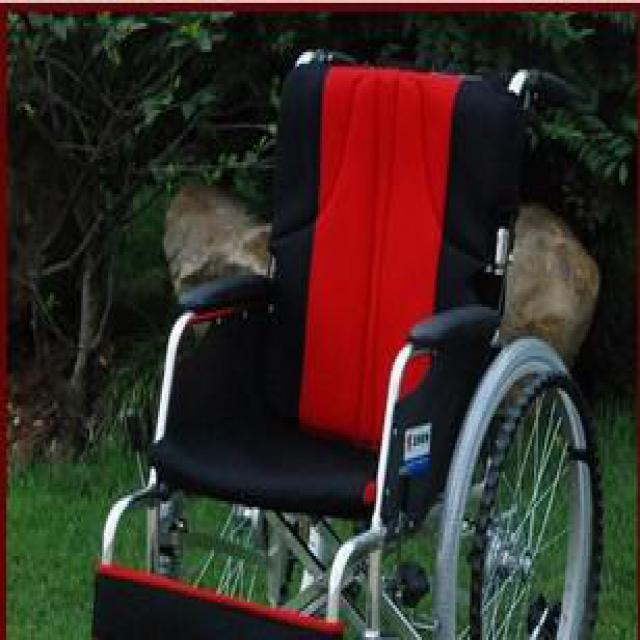wheelchair: (90, 52, 594, 637)
